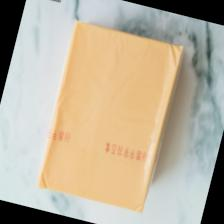cheese: (32, 15, 185, 214)
